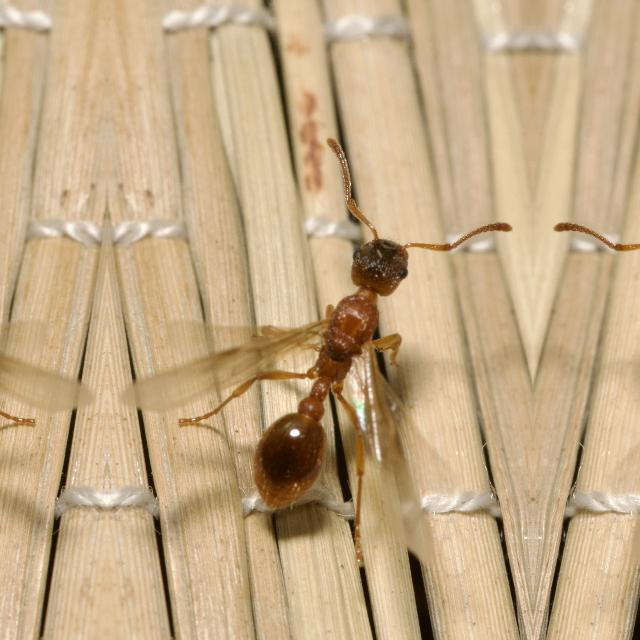Myrmica: (210, 159, 458, 539)
